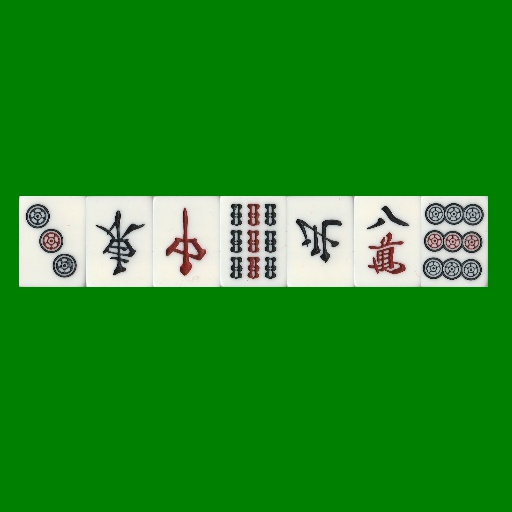3p: (19, 196, 86, 287)
8m: (354, 196, 421, 287)
9p: (421, 196, 488, 287)
9s: (220, 196, 287, 287)
east: (86, 196, 153, 287)
north: (287, 196, 354, 287)
tyun: (153, 196, 220, 287)
